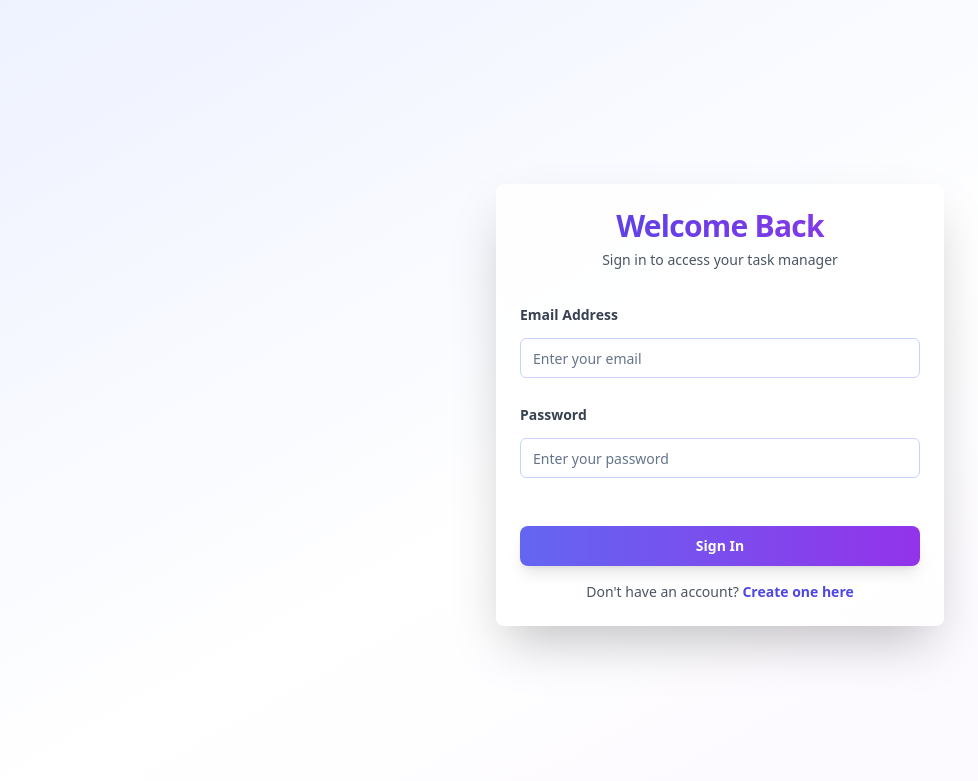
Scenario: App Integration Tests › shows register page when clicking register link
Click the link "Create one here" at (798, 592), box top-left (742, 582), bottom-right (854, 601)
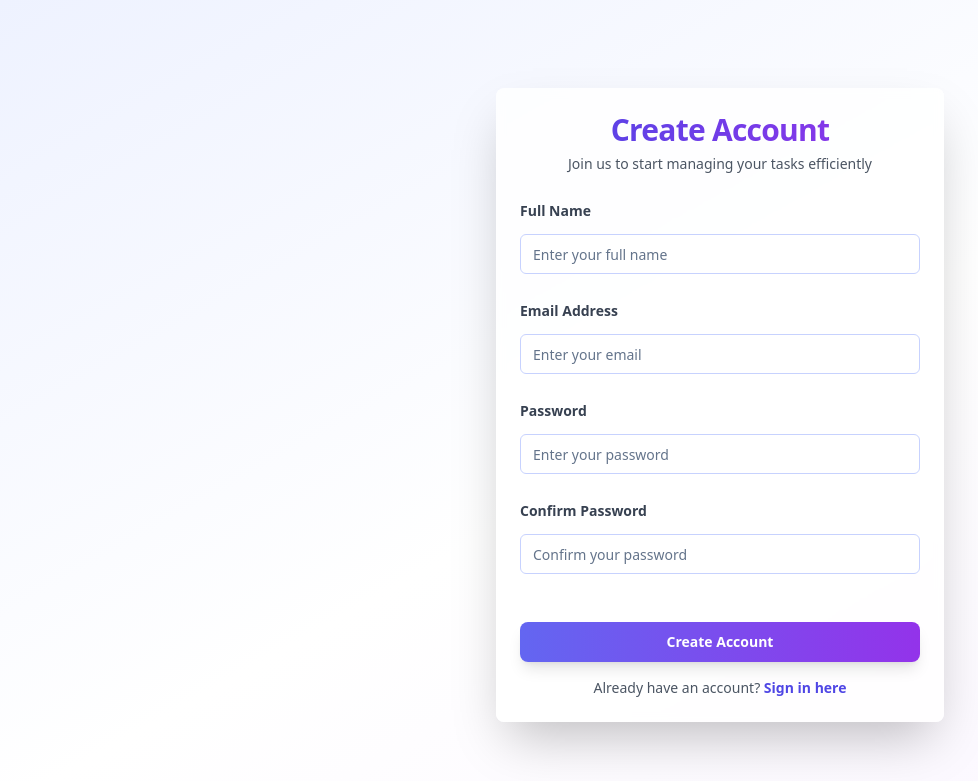
Expected: the heading "Create Account" is shown, top-left (520, 112), bottom-right (920, 148)
